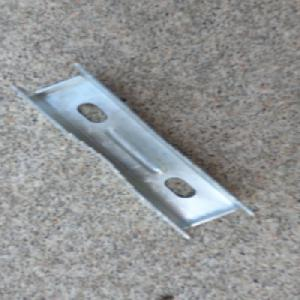ClampPart: (9, 59, 255, 240)
